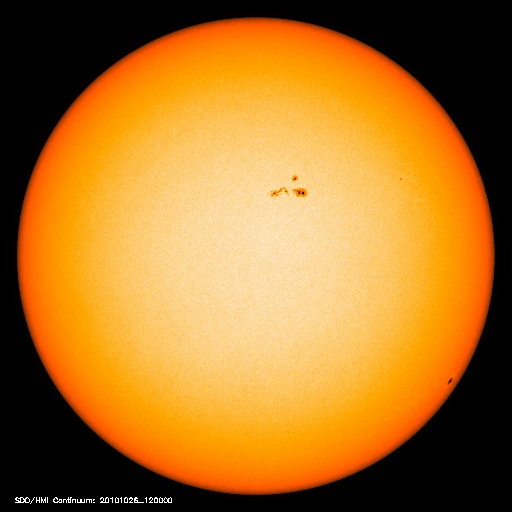sunspot: (264, 168, 310, 205), (440, 367, 462, 395), (390, 169, 410, 187)
